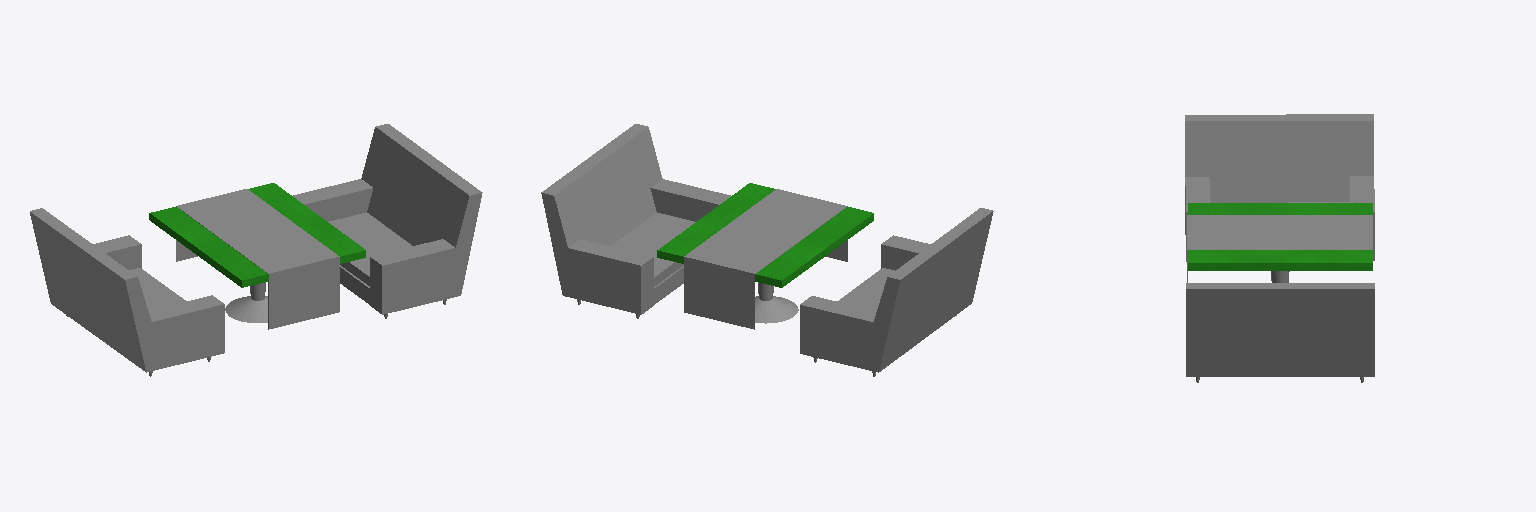
3 views of the same model, side by side, from view 1: azimuth 30°, elevation 25°; view 2: azimuth 150°, elevation 25°; view 3: azimuth 270°, elevation 25° (orthographic).
Parts seen in each view (by area): view 1: Box006, Box014, Box002, Box001, Box004, Box016, Box015, Cone002, Box005; view 2: Box006, Box014, Box002, Box001, Box003, Box016, Box015, Cone002, Box005; view 3: Box006, Box014, Box002, Box001.
Part boxes in pixels (x1,y1,x2,y2): Box006: (293,124,482,314); Box014: (30,208,224,372); Box002: (176,189,338,273); Box001: (149,183,365,287); Box004: (268,256,339,329); Box016: (328,212,411,285); Box015: (129,268,186,310); Cone002: (225,296,267,322); Box005: (340,265,369,304); Box006: (541,124,730,314); Box014: (800,208,993,372); Box002: (684,189,847,273); Box001: (657,183,873,287); Box003: (684,257,754,329); Box016: (611,213,695,286); Box015: (837,268,894,310); Cone002: (755,296,798,323); Box005: (654,266,683,304); Box006: (1186,283,1374,376); Box014: (1185,114,1374,261); Box002: (1188,215,1372,249); Box001: (1188,203,1372,270).
Bounding box in the file's own units: 101 × 29.1 × 46.19.
7 materials, 1 textured.